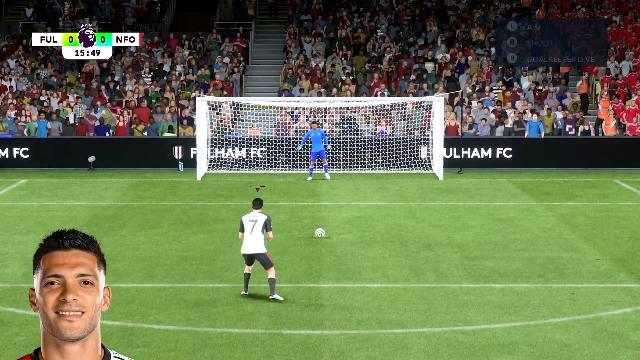bottom-left: (200, 144, 280, 180)
bottom-right: (360, 142, 440, 182)
center-down: (282, 143, 358, 181)
center-up: (280, 102, 358, 142)
circle: (312, 235, 328, 237)
football: (315, 230, 325, 236)
goalkeeper: (296, 121, 334, 181)
player: (239, 198, 285, 300)
top-left: (200, 102, 280, 142)
top-right: (360, 101, 440, 141)
